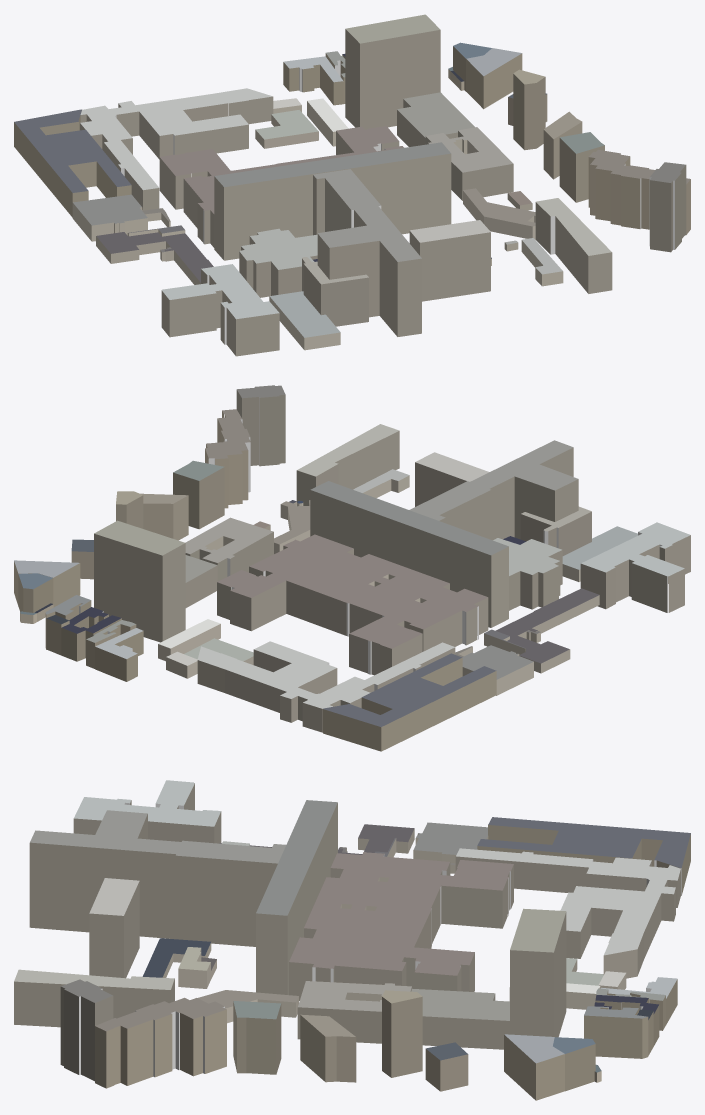
3 views of the same model, one above another, from view 1: azimuth 30°, elevation 25°; view 2: azimuth 150°, elevation 25°; view 3: azimuth 270°, elevation 25° (orthographic). The views are drawn at different scales.
Parts seen in each view (by area): view 1: tuile; view 2: tuile; view 3: tuile.
Part boxes in pixels (<box>): tuile: <box>14,14,690,356</box>; tuile: <box>14,385,690,751</box>; tuile: <box>14,780,690,1100</box>.
Bounding box in the file's own units: 291 × 51.21 × 291.
